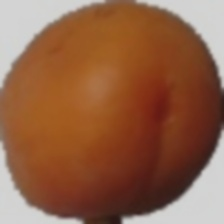apricot: (21, 25, 192, 224)
